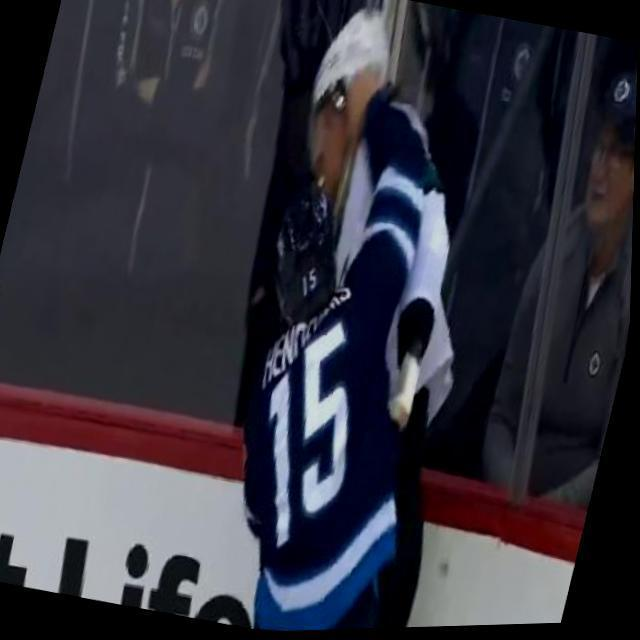fight: (157, 0, 562, 636)
